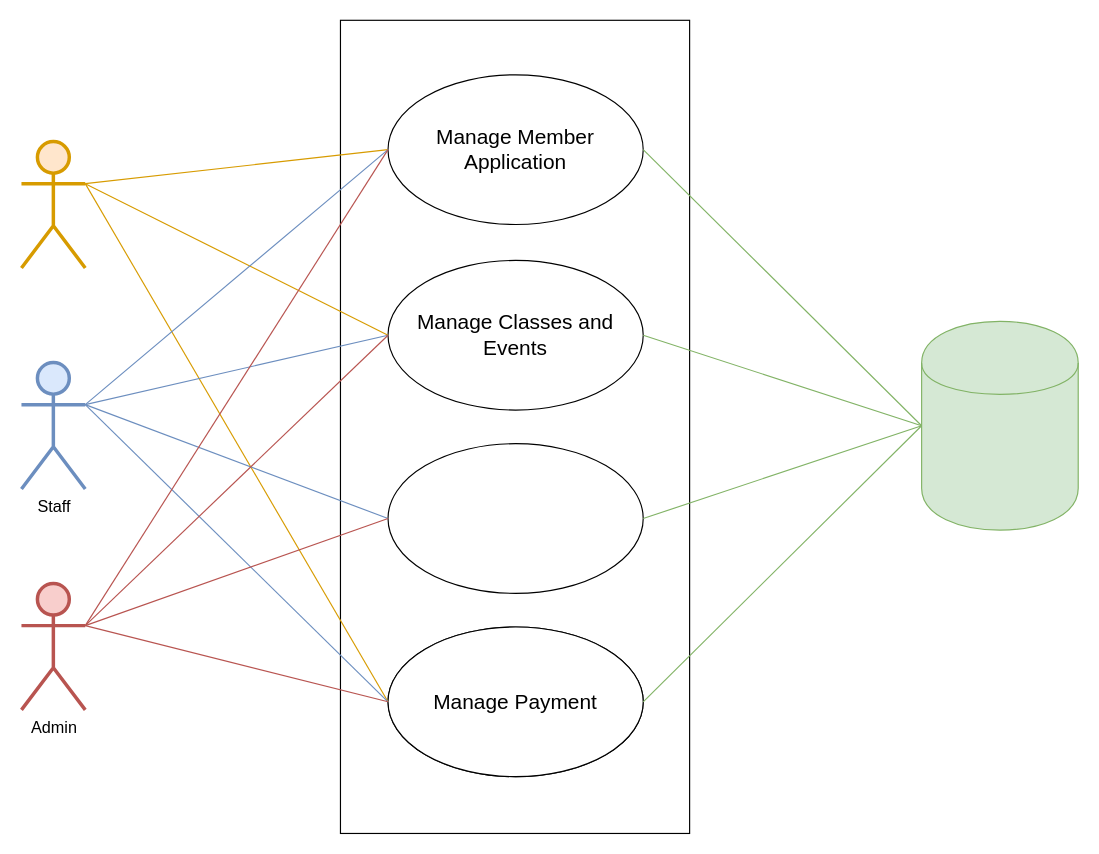
Some shapes in this 1099 by 854 pixel diagram are drawn without their labels. The shapes that lost their labels are listed below. From the top down, each one's box as (x1, y1, x2, y2) in pixels, then its label:
(19, 139, 86, 269): Customer
(920, 320, 1078, 530): System
(387, 443, 643, 593): Manage Trainer Assignment
